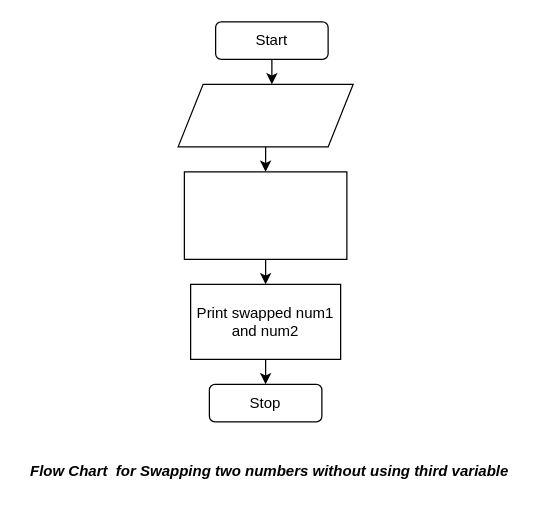
The diagram is 543 pixels wide and 506 high, and some of its shapes have lost their labels. The shapes that lost their labels are listed below. From the top down, each one's centre as x and y in pixels, then its label:
At [265,115]: "read two numbers, num1 and num2".
At [265,215]: "num1=num1+num2 num2=num1-num2 num1=num1-num2".
